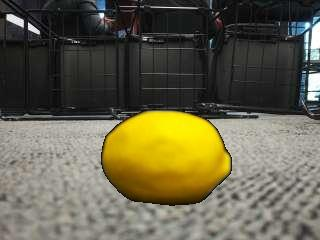lemon: (102, 112, 230, 205)
